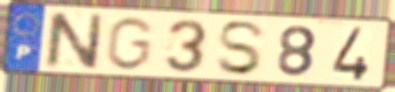3: (162, 18, 210, 75)
4: (331, 26, 372, 82)
8: (276, 24, 318, 78)
G: (103, 15, 157, 72)
N: (43, 11, 107, 71)
S: (214, 20, 269, 78)
